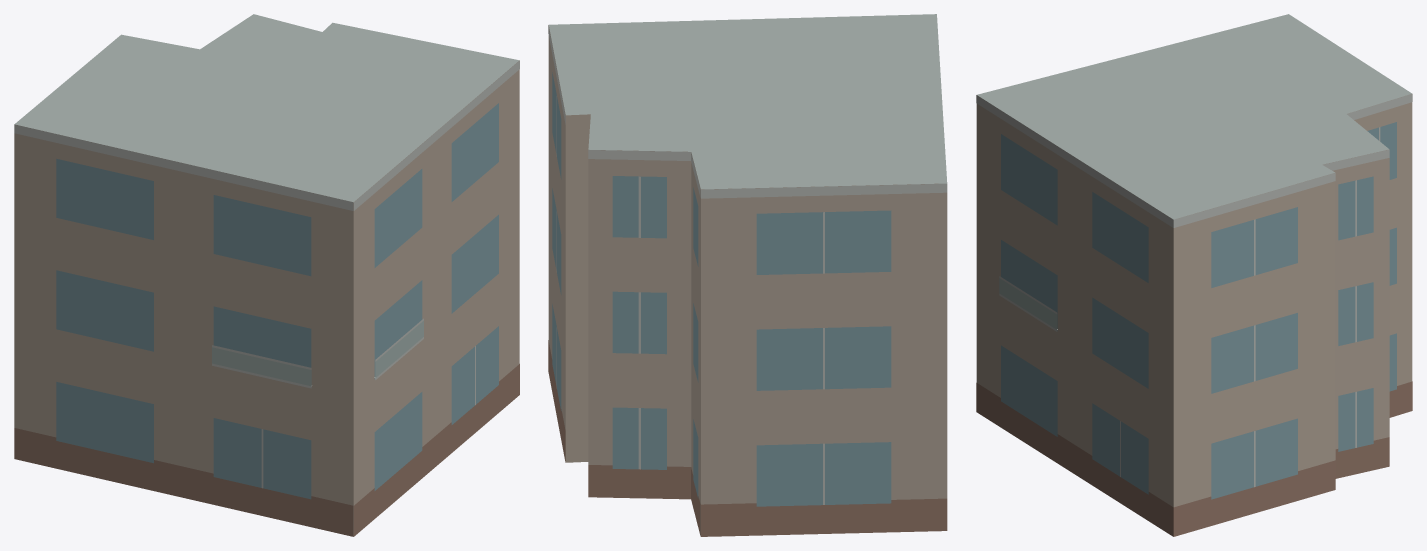
File: survey-upis-32794509.glb
3 views of the same model, side by side, from view 1: azimuth 30°, elevation 25°; view 2: azimuth 150°, elevation 25°; view 3: azimuth 270°, elevation 25° (orthographic). The views are drawn at different scales.
Visible parts, largest first — view 1: survey-upis-32794509.tmp; view 2: survey-upis-32794509.tmp; view 3: survey-upis-32794509.tmp.
Boxes of the visible parts, x1,y1,x2,y2 form: survey-upis-32794509.tmp: (14, 14, 519, 536); survey-upis-32794509.tmp: (548, 14, 947, 536); survey-upis-32794509.tmp: (976, 14, 1412, 536).
Size of the model in its own units: 12.73 by 9.15 by 11.41.
